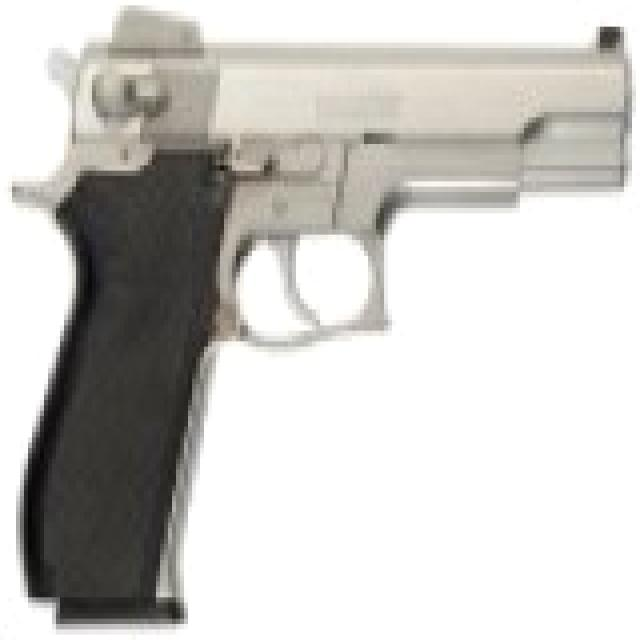pistol: (24, 11, 624, 613)
